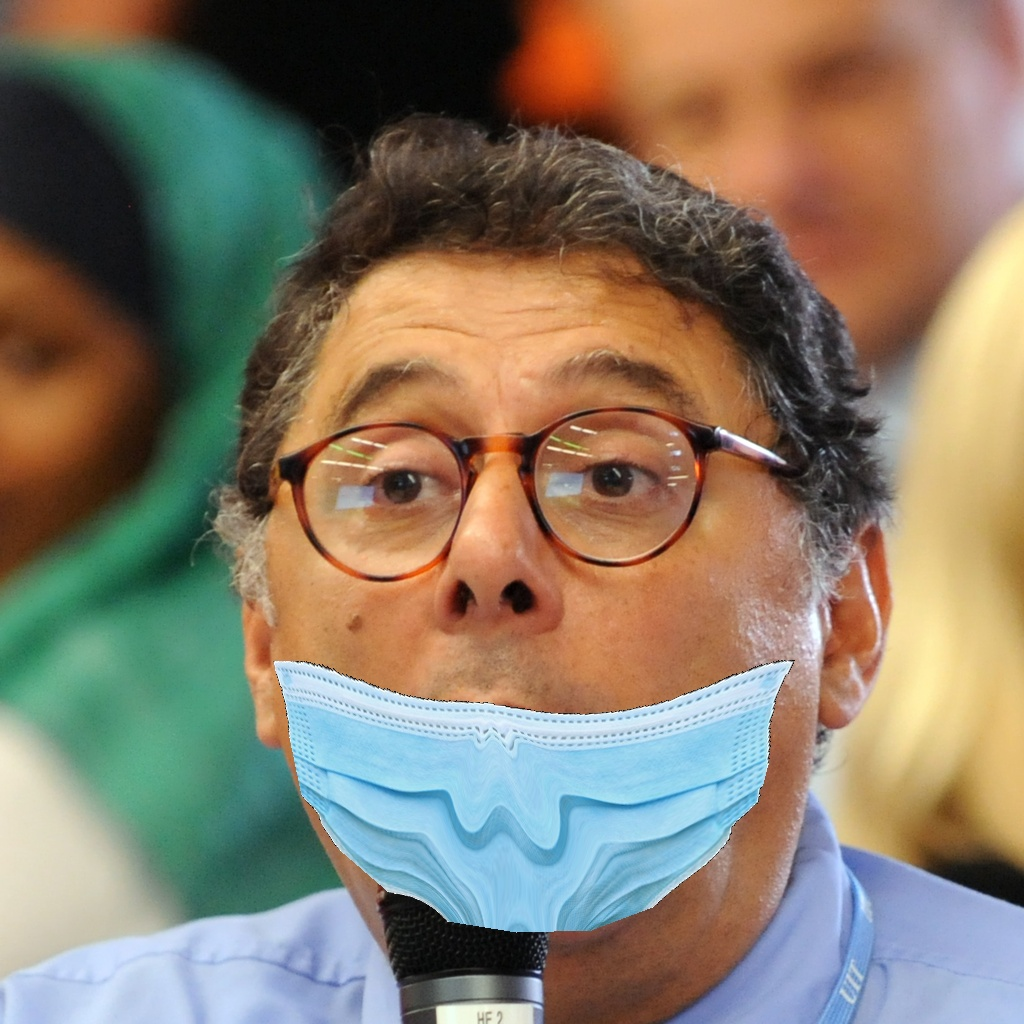mascarilla_mal_puesta: (232, 335, 839, 940)
